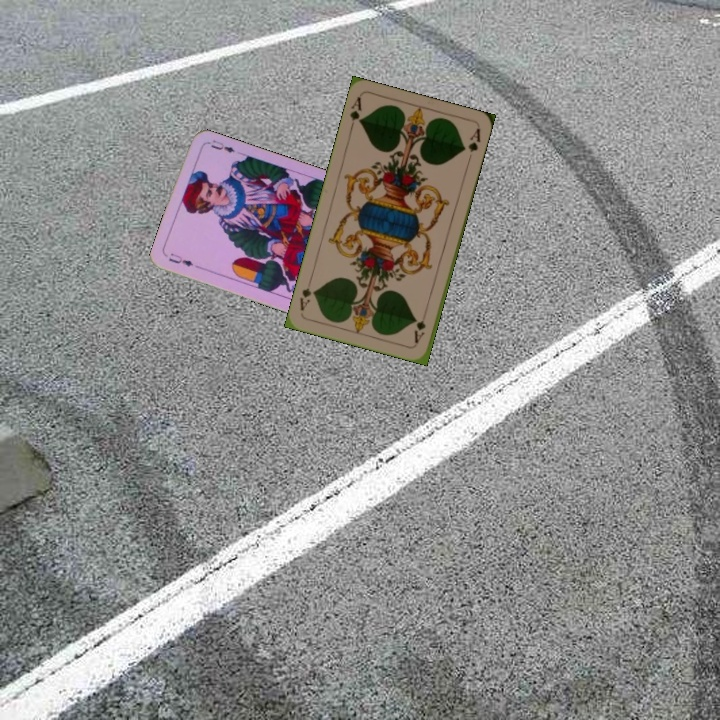EU: (164, 249, 204, 271)
GA: (410, 307, 430, 346), (346, 93, 364, 133)
